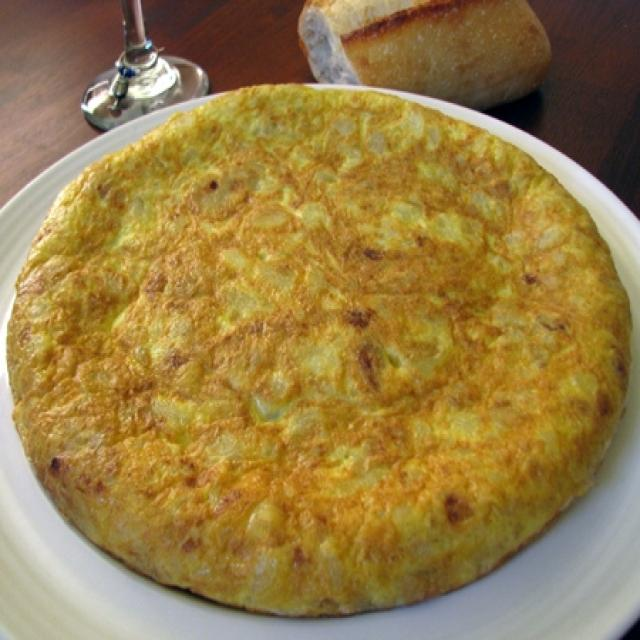面包点心: (17, 51, 612, 601)
